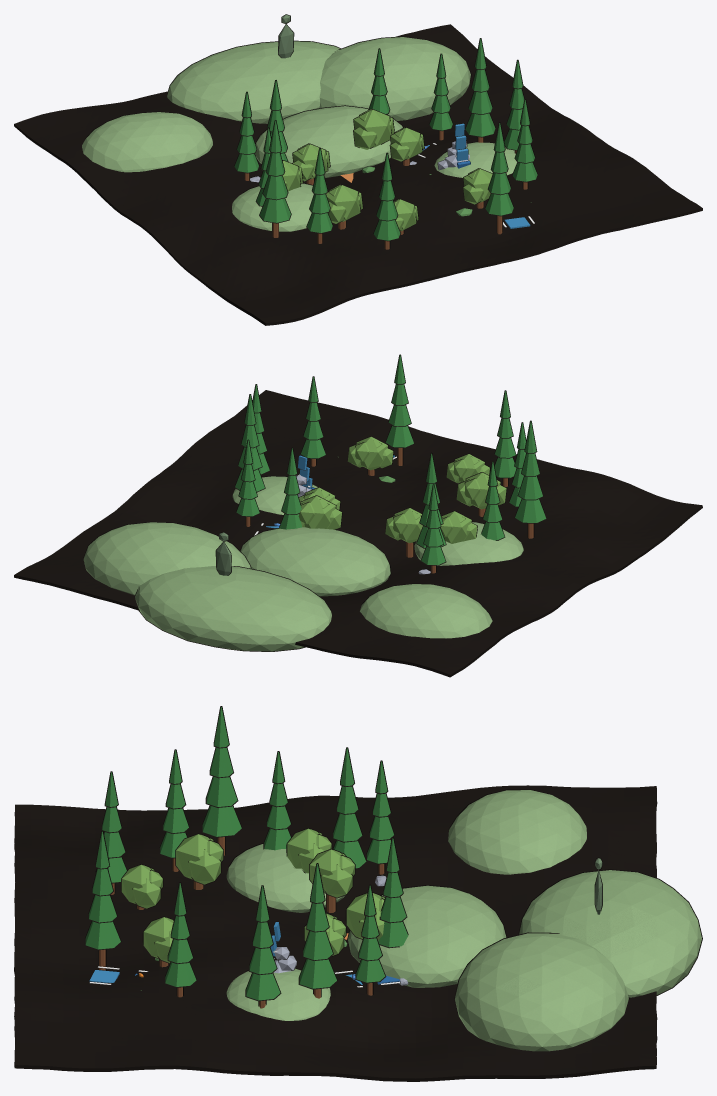
The model's file is bethlehem_valley_v5.glb.
The picture shows the model from 3 angles, top to bottom: view 1: azimuth 30°, elevation 25°; view 2: azimuth 150°, elevation 25°; view 3: azimuth 270°, elevation 25°; orthographic projection. The views are drawn at different scales.
Parts seen in each view (by area): view 1: BethlehemValley_v2_Outline, BethlehemValley_v2, Cypress_8, Cypress_4, Cypress_7, Olive_5, Cypress_6, Cypress_0, Olive_2, Cypress_3, Cypress_10, Cypress_5 (+7 smaller); view 2: BethlehemValley_v2_Outline, BethlehemValley_v2, Cypress_8, Cypress_7, Olive_3, Cypress_6, Olive_5, Olive_2, Olive_0, Cypress_3, Cypress_10, Cypress_4 (+8 smaller); view 3: BethlehemValley_v2_Outline, BethlehemValley_v2, Cypress_8, Cypress_4, Cypress_7, Cypress_9, Cypress_2, Olive_2, Cypress_11, Cypress_3, Olive_0, Cypress_0 (+9 smaller).
Part boxes in pixels (bbox=[...]): BethlehemValley_v2_Outline: bbox=[14, 14, 702, 325]; BethlehemValley_v2: bbox=[82, 14, 516, 231]; Cypress_8: bbox=[260, 120, 290, 237]; Cypress_4: bbox=[465, 38, 495, 142]; Cypress_7: bbox=[485, 123, 513, 234]; Olive_5: bbox=[353, 109, 394, 149]; Cypress_6: bbox=[374, 153, 400, 249]; Cypress_0: bbox=[307, 149, 332, 243]; Olive_2: bbox=[326, 185, 362, 229]; Cypress_3: bbox=[512, 100, 537, 189]; Cypress_10: bbox=[234, 92, 258, 180]; Cypress_5: bbox=[429, 54, 452, 140]; BethlehemValley_v2_Outline: bbox=[14, 390, 702, 677]; BethlehemValley_v2: bbox=[83, 476, 523, 651]; Cypress_8: bbox=[515, 421, 546, 538]; Cypress_7: bbox=[386, 355, 413, 465]; Olive_3: bbox=[347, 436, 393, 475]; Cypress_6: bbox=[494, 391, 516, 487]; Olive_5: bbox=[298, 495, 341, 529]; Olive_2: bbox=[456, 472, 506, 516]; Olive_0: bbox=[385, 508, 422, 557]; Cypress_3: bbox=[301, 377, 325, 466]; Cypress_10: bbox=[421, 485, 445, 573]; Cypress_4: bbox=[235, 394, 264, 491]; BethlehemValley_v2_Outline: bbox=[14, 785, 702, 1081]; BethlehemValley_v2: bbox=[226, 790, 701, 1051]; Cypress_8: bbox=[202, 707, 241, 855]; Cypress_4: bbox=[299, 864, 336, 998]; Cypress_7: bbox=[85, 831, 120, 970]; Cypress_9: bbox=[246, 886, 280, 1008]; Cypress_2: bbox=[333, 748, 366, 868]; Olive_2: bbox=[176, 834, 223, 889]; Cypress_11: bbox=[378, 838, 408, 947]; Cypress_3: bbox=[165, 883, 196, 997]; Olive_0: bbox=[309, 849, 354, 912]; Cypress_0: bbox=[160, 750, 188, 871].
Bounding box in the file's own units: 28.11 × 8.01 × 30.11.
133 materials, 133 textured.
